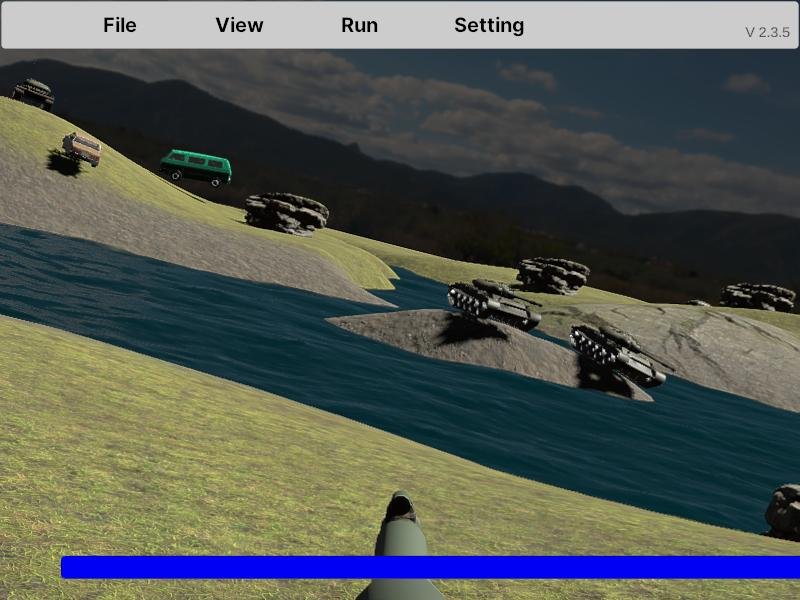Tank: (570, 322, 682, 390), (447, 278, 543, 332), (13, 77, 55, 110)
car: (159, 149, 232, 189), (62, 132, 102, 168)
